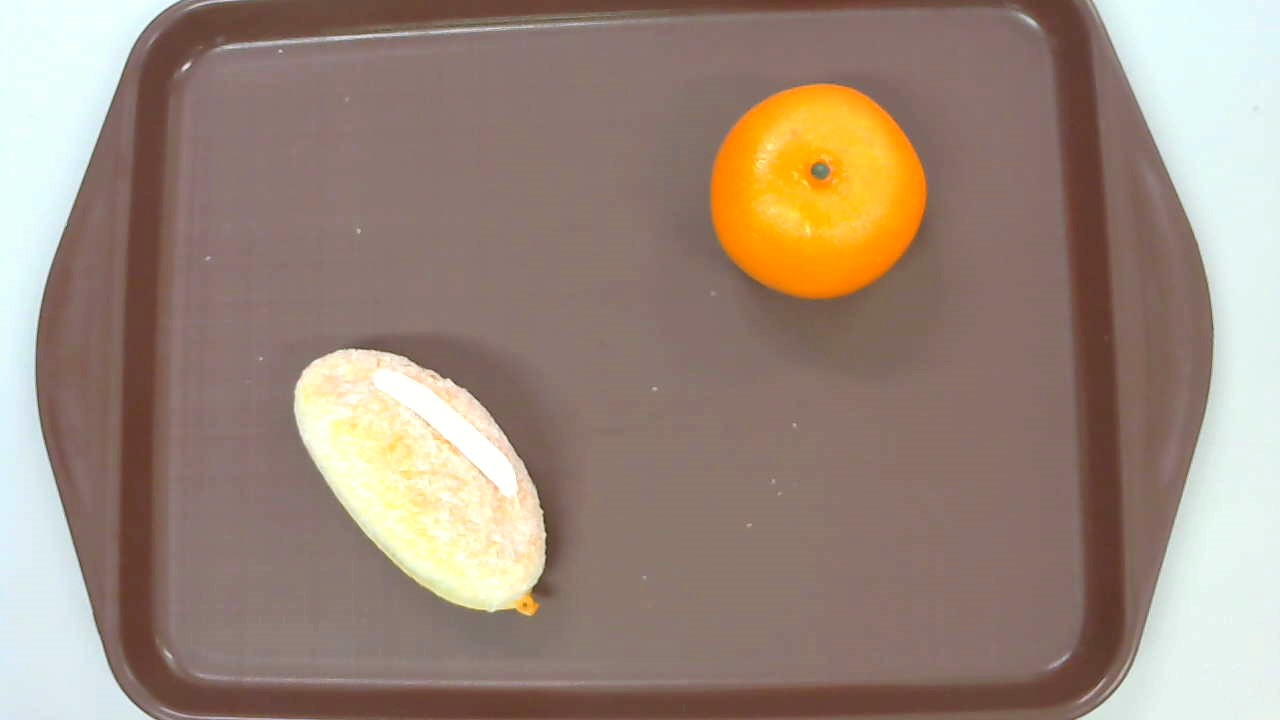coconut: (293, 346, 548, 616)
orange: (710, 83, 928, 299)
